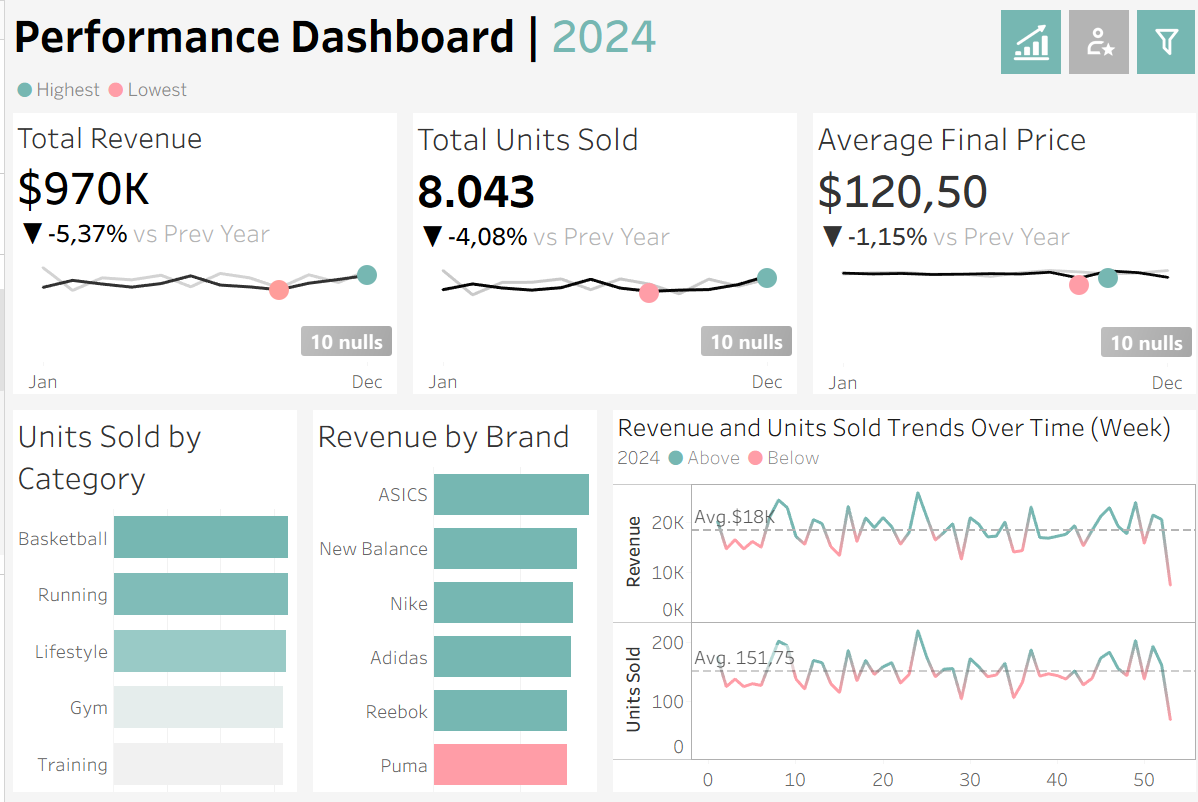

What the dashboard file says about the page in this screenshot:
{"tool":"tableau","page":{"name":"Performance Dashboard","canvas":[1200,800],"ordinal":1},"visuals":[{"type":"text","box":[0,0,1200,69]},{"type":"dashboard-object","box":[992,6,68,72]},{"type":"dashboard-object","box":[1060,6,68,72]},{"type":"dashboard-object","box":[1128,6,67,72]},{"type":"text","box":[0,73,1200,32]},{"type":"text","box":[919,87,276,57]},{"type":"worksheet","title":"KPI Revenue","mark":"Automatic","rows":["Calculation_1601592620066222084"],"cols":["order_date"],"box":[0,105,400,297]},{"type":"worksheet","title":"KPI Units Sold","mark":"Automatic","rows":["Calculation_1601592620080873487"],"cols":["order_date"],"box":[400,105,400,297]},{"type":"worksheet","title":"Avg Final Price","mark":"Line","rows":["Calculation_1601592620102610964"],"cols":["order_date"],"box":[800,105,400,297]},{"type":"parameter","param":"[Parameters].[Parameter 1]","box":[919,144,276,60]},{"type":"blank","box":[919,204,276,40]},{"type":"text","box":[919,244,276,33]},{"type":"filter","title":"KPI Revenue","param":"[federated.1iavkvq1rri7u617tmii90vnny2a].[none:brand:nk]","box":[919,277,276,70]},{"type":"filter","title":"KPI Revenue","param":"[federated.1iavkvq1rri7u617tmii90vnny2a].[none:category:nk]","box":[919,347,276,70]},{"type":"worksheet","title":"Units by Category","mark":"Bar","rows":["category"],"cols":["Calculation_1601592620076466187"],"box":[0,402,300,398]},{"type":"worksheet","title":"Revenue by Brand","mark":"Bar","rows":["brand"],"cols":["Calculation_1601592620055179264"],"box":[300,402,300,398]},{"type":"text","box":[608,410,584,34]},{"type":"blank","box":[919,417,276,37]},{"type":"text","box":[608,444,584,25]},{"type":"text","box":[919,454,276,33]},{"type":"worksheet","title":"Revenue Over Time","mark":"Automatic","rows":["Calculation_1601592620055179264","Calculation_1601592620076466187"],"cols":["order_date"],"box":[608,469,584,323]},{"type":"filter","title":"KPI Revenue","param":"[federated.1iavkvq1rri7u617tmii90vnny2a].[none:country:nk]","box":[919,487,276,70]}]}

Visuals, with their boxes in screenshot pixels (x1, y1, x2, y2), scaled from the page's 1200x800 canvas onto the 1198x802 screenshot:
text: bbox=[0, 0, 1197, 69]
dashboard-object: bbox=[990, 6, 1058, 78]
dashboard-object: bbox=[1058, 6, 1126, 78]
dashboard-object: bbox=[1126, 6, 1193, 78]
text: bbox=[0, 73, 1197, 105]
text: bbox=[917, 87, 1193, 144]
"KPI Revenue" worksheet: bbox=[0, 105, 399, 403]
"KPI Units Sold" worksheet: bbox=[399, 105, 799, 403]
"Avg Final Price" worksheet (Line marks): bbox=[799, 105, 1197, 403]
parameter: bbox=[917, 144, 1193, 205]
blank: bbox=[917, 205, 1193, 245]
text: bbox=[917, 245, 1193, 278]
"KPI Revenue" filter: bbox=[917, 278, 1193, 348]
"KPI Revenue" filter: bbox=[917, 348, 1193, 418]
"Units by Category" worksheet (Bar marks): bbox=[0, 403, 300, 801]
"Revenue by Brand" worksheet (Bar marks): bbox=[300, 403, 599, 801]
text: bbox=[607, 411, 1190, 445]
blank: bbox=[917, 418, 1193, 455]
text: bbox=[607, 445, 1190, 470]
text: bbox=[917, 455, 1193, 488]
"Revenue Over Time" worksheet: bbox=[607, 470, 1190, 794]
"KPI Revenue" filter: bbox=[917, 488, 1193, 558]
